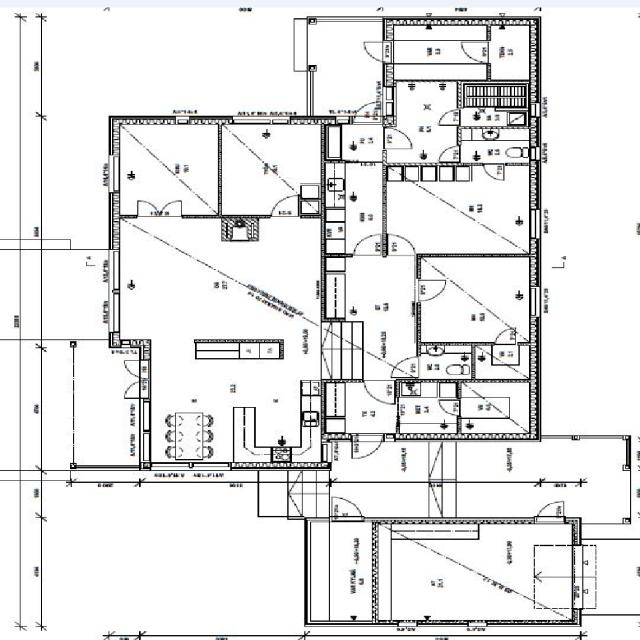door: (134, 198, 185, 218), (362, 378, 396, 406), (352, 434, 384, 461), (329, 496, 365, 520), (456, 39, 491, 63), (414, 278, 448, 301), (384, 232, 417, 255), (533, 499, 566, 522), (352, 233, 383, 256), (269, 195, 300, 217), (351, 101, 380, 124), (382, 128, 412, 150), (390, 356, 420, 376), (360, 40, 387, 62), (121, 380, 146, 400), (480, 163, 506, 182), (493, 328, 518, 346), (437, 144, 460, 163), (436, 109, 460, 127), (437, 399, 461, 417), (123, 360, 145, 379)
window: (106, 250, 123, 295), (230, 115, 293, 127), (107, 292, 123, 334), (107, 153, 122, 193), (527, 207, 544, 240), (146, 461, 196, 472), (526, 286, 542, 318), (138, 398, 152, 434), (379, 192, 391, 234), (195, 462, 226, 470)
zone: (386, 530, 572, 620), (384, 166, 534, 256), (211, 360, 313, 465), (416, 256, 532, 344), (118, 122, 222, 217), (218, 121, 322, 215), (308, 17, 384, 120), (35, 246, 113, 342), (322, 258, 417, 322), (578, 538, 638, 615), (323, 381, 396, 437), (387, 31, 490, 67), (389, 80, 460, 130), (458, 381, 526, 433), (396, 385, 458, 438), (487, 24, 536, 82), (457, 133, 533, 166), (324, 124, 384, 162), (474, 344, 532, 380), (417, 346, 474, 380), (170, 414, 208, 461), (459, 106, 529, 129)
